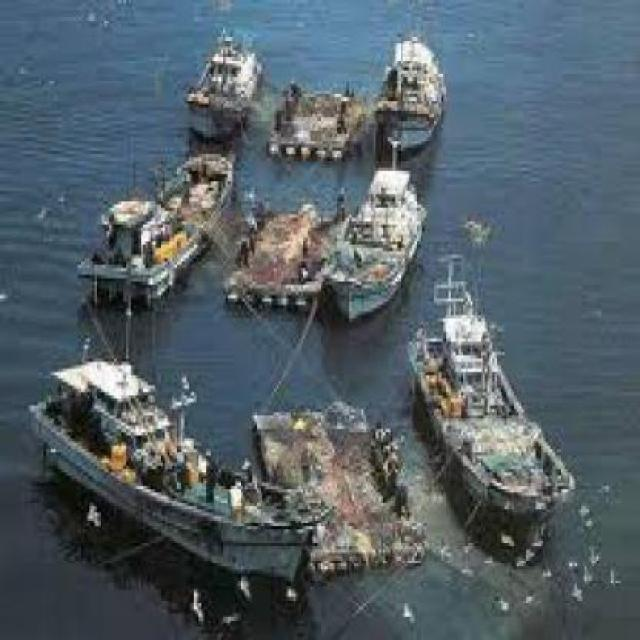fish-b: (9, 330, 338, 597), (409, 242, 590, 557), (52, 135, 241, 322), (321, 148, 435, 332), (362, 20, 454, 159), (178, 21, 262, 146)
